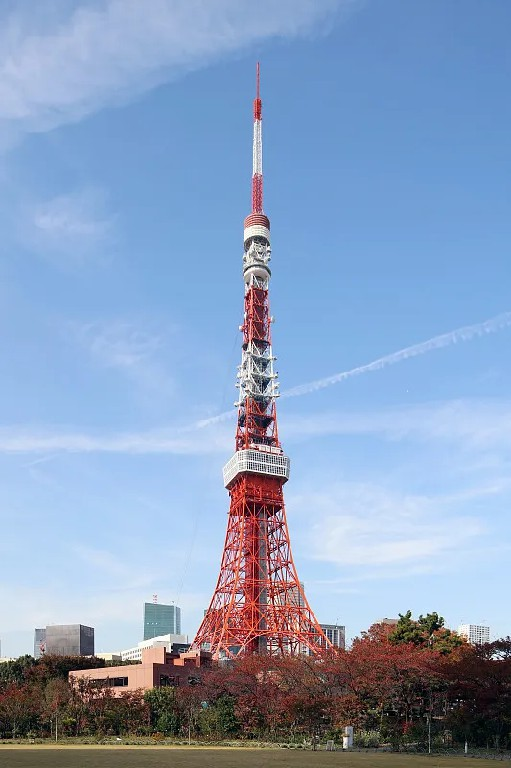Tokyo: (190, 55, 338, 659)
